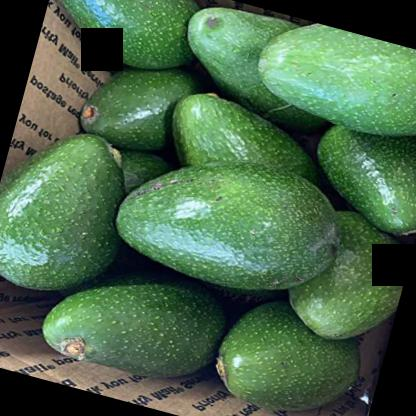avocado: (108, 129, 352, 309), (35, 255, 233, 392), (0, 114, 138, 306), (246, 9, 415, 152), (273, 197, 415, 350), (212, 292, 370, 415), (162, 84, 323, 197), (299, 116, 415, 237), (38, 0, 210, 79), (78, 50, 196, 158)
